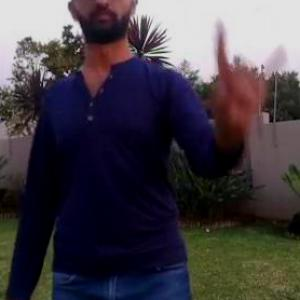takeoff-hand: (202, 13, 291, 136)
